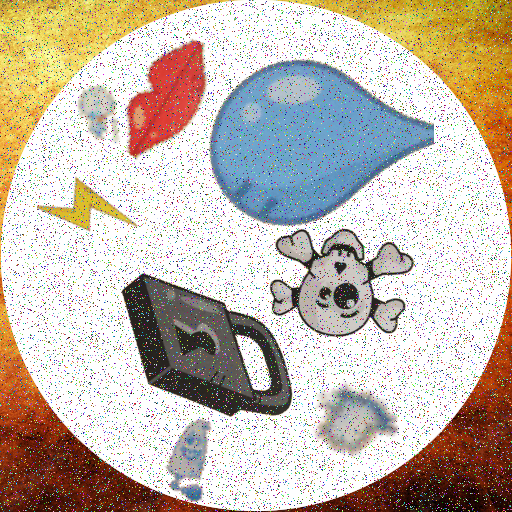cube_icon: (303, 377, 399, 473)
ghost_icon: (149, 416, 235, 502)
lightning_icon: (37, 161, 139, 263)
lips_icon: (106, 36, 240, 170)
lock_icon: (111, 250, 300, 439)
raindrop_icon: (204, 29, 434, 259)
skull_icon: (253, 202, 418, 367)
snowman_icon: (72, 84, 135, 147)
